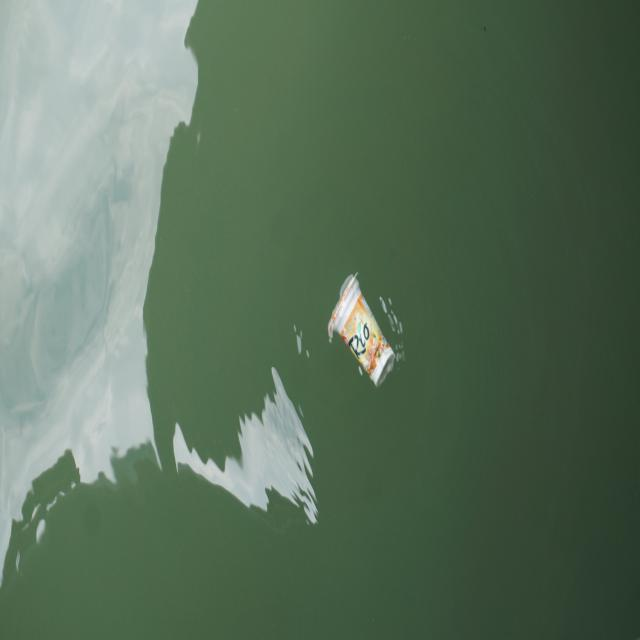Bungkus Minuman: (327, 269, 397, 394)
